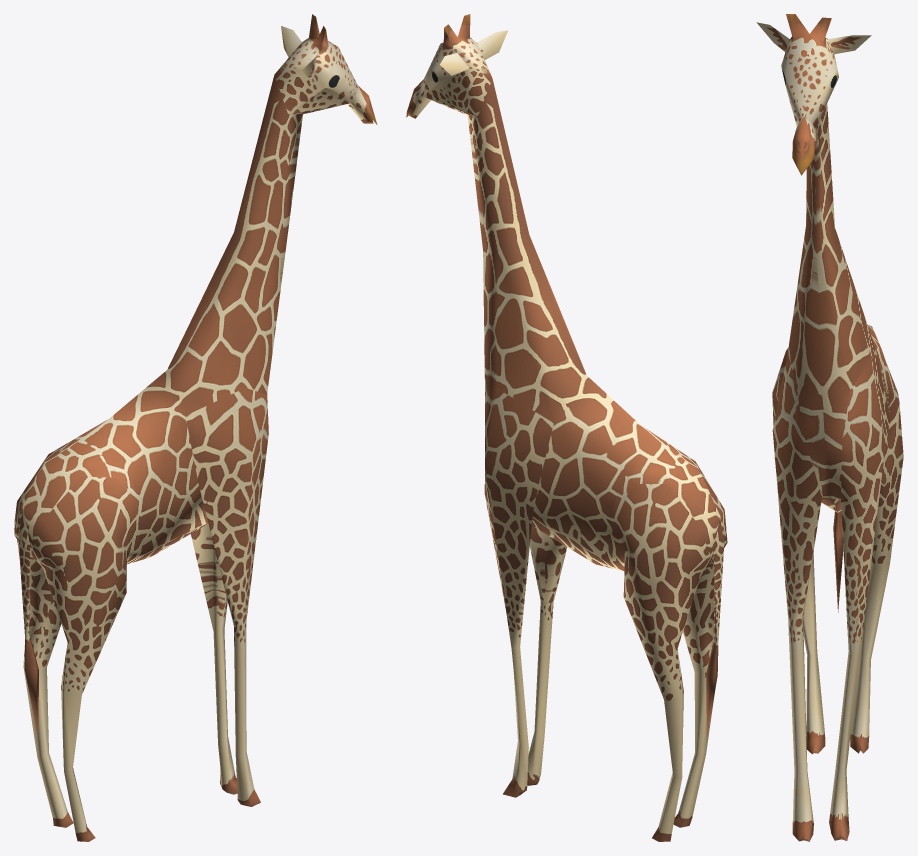
The model's file is M_changjinglu01.FBX.
3 renders of one model, left to right at view 1: azimuth 30°, elevation 25°; view 2: azimuth 150°, elevation 25°; view 3: azimuth 270°, elevation 25°, orthographic. The views are drawn at different scales.
Visible parts, largest first — view 1: M_changjinglu01; view 2: M_changjinglu01; view 3: M_changjinglu01.
Part boxes in pixels (x1,y1,x2,y2): M_changjinglu01: (14, 14, 377, 841); M_changjinglu01: (406, 14, 727, 841); M_changjinglu01: (756, 14, 903, 841).
Bounding box in the file's own units: 1.04 × 2.22 × 0.3439.
